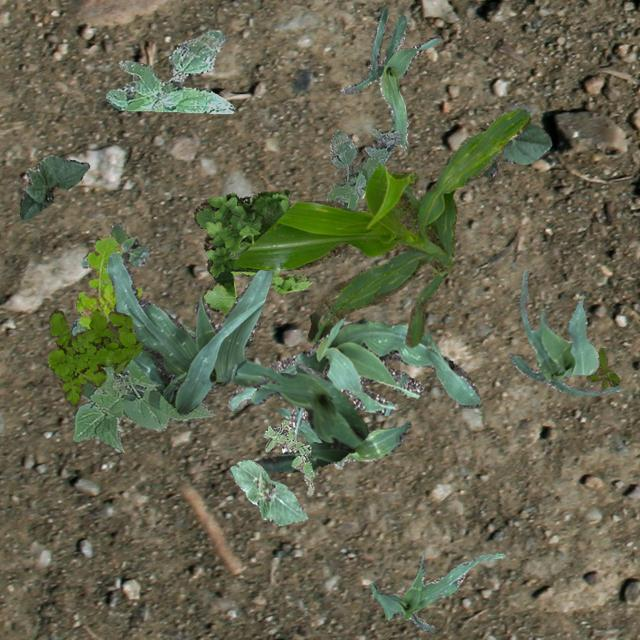crop: (233, 108, 530, 346), (226, 306, 478, 452), (105, 251, 274, 414), (68, 316, 214, 451), (230, 360, 368, 470), (506, 268, 620, 394), (340, 7, 440, 148), (368, 552, 504, 632), (278, 407, 410, 468), (464, 120, 550, 182), (228, 458, 306, 524), (18, 153, 88, 220)
weed: (192, 188, 310, 314), (104, 29, 233, 112), (46, 308, 142, 404), (75, 234, 142, 330), (324, 128, 402, 210), (262, 418, 314, 494), (78, 222, 148, 266), (586, 346, 618, 388)
